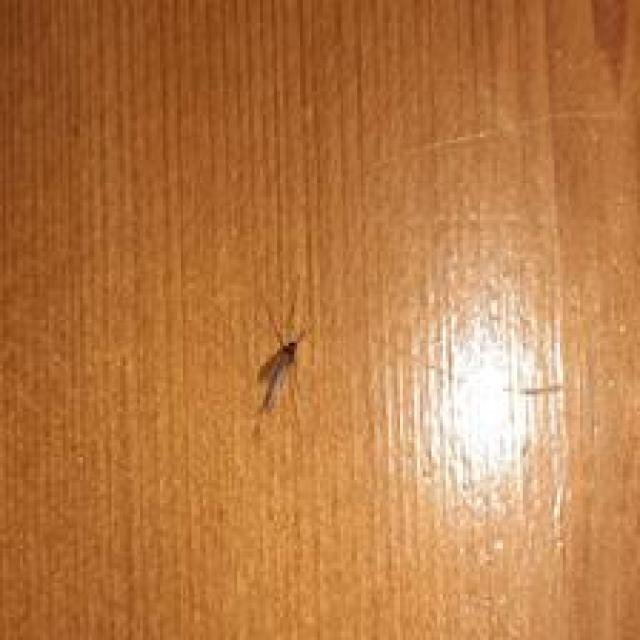Culex: (256, 326, 304, 414)
